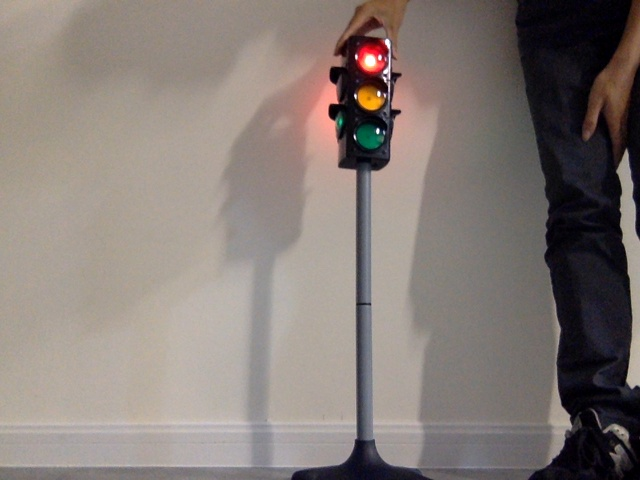red: (345, 44, 385, 150)
